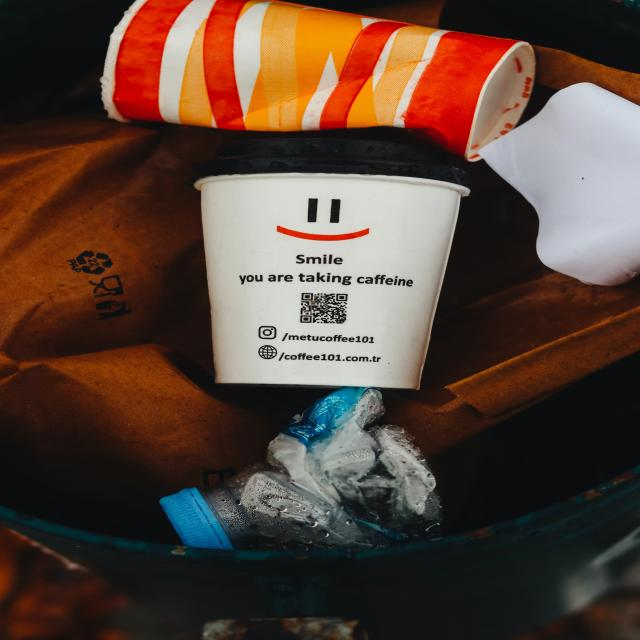cardboard: (26, 192, 162, 448)
paper: (495, 151, 635, 284)
plastic: (191, 166, 453, 388), (124, 18, 513, 131), (203, 434, 409, 537)
